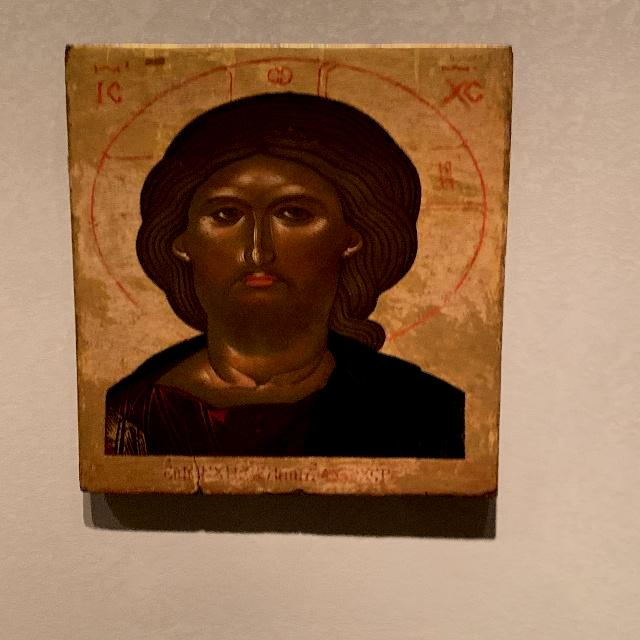aura: (97, 55, 475, 348)
christ: (92, 51, 492, 481)
